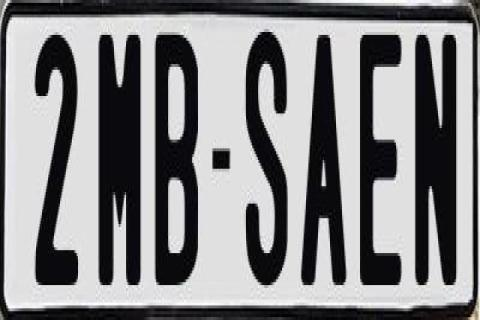0: (32, 29, 80, 282)
A: (298, 35, 346, 288)
B: (152, 32, 196, 288)
E: (356, 26, 400, 288)
M: (96, 35, 142, 291)
N: (412, 32, 452, 294)
S: (242, 32, 290, 302)
